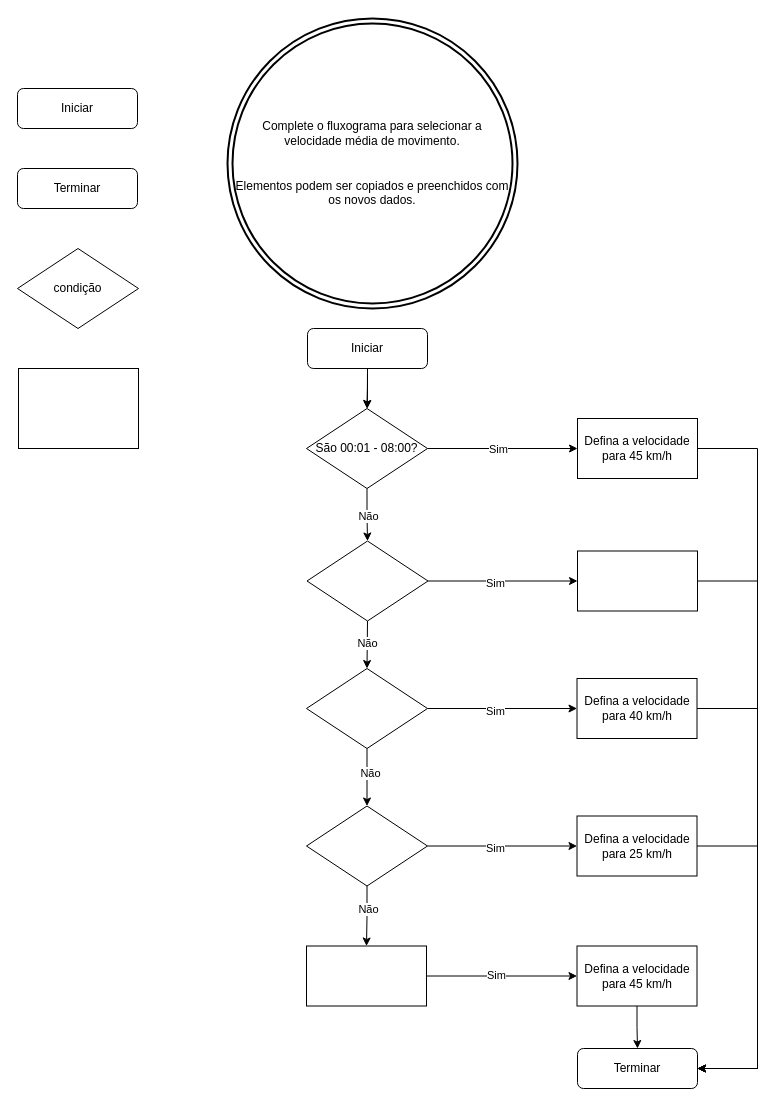
Some shapes in this 783 by 1106 pixel diagram are drawn without their labels. The centre of each missing label's shape, as x and y in pixels:
ação: pixel 78 408
Defina a velocidade para 30 km/h: pixel 637 580
São 08:01 - 12:00?: pixel 367 580
São 12:01 - 18:00?: pixel 367 708
São 18:01 - 22:00?: pixel 367 845
São 22:01 - 00:00: pixel 366 975
